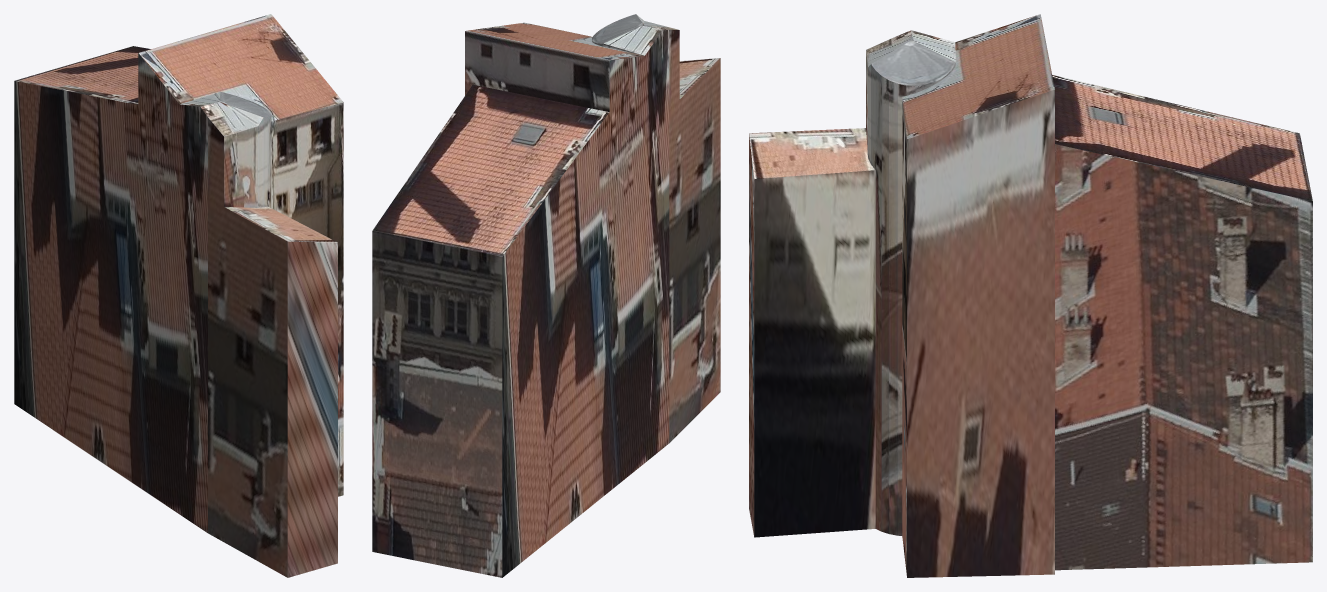
3 renders of one model, left to right at view 1: azimuth 30°, elevation 25°; view 2: azimuth 150°, elevation 25°; view 3: azimuth 270°, elevation 25°, orthographic. The views are drawn at different scales.
Visible parts, largest first — view 1: Z_UP; view 2: Z_UP; view 3: Z_UP.
Part boxes in pixels (x1,y1,x2,y2): Z_UP: (14,14,343,577); Z_UP: (372,14,720,577); Z_UP: (749,14,1312,577).
Bounding box in the file's own units: 8.47 × 22.86 × 24.09.
2 materials, 1 textured.
